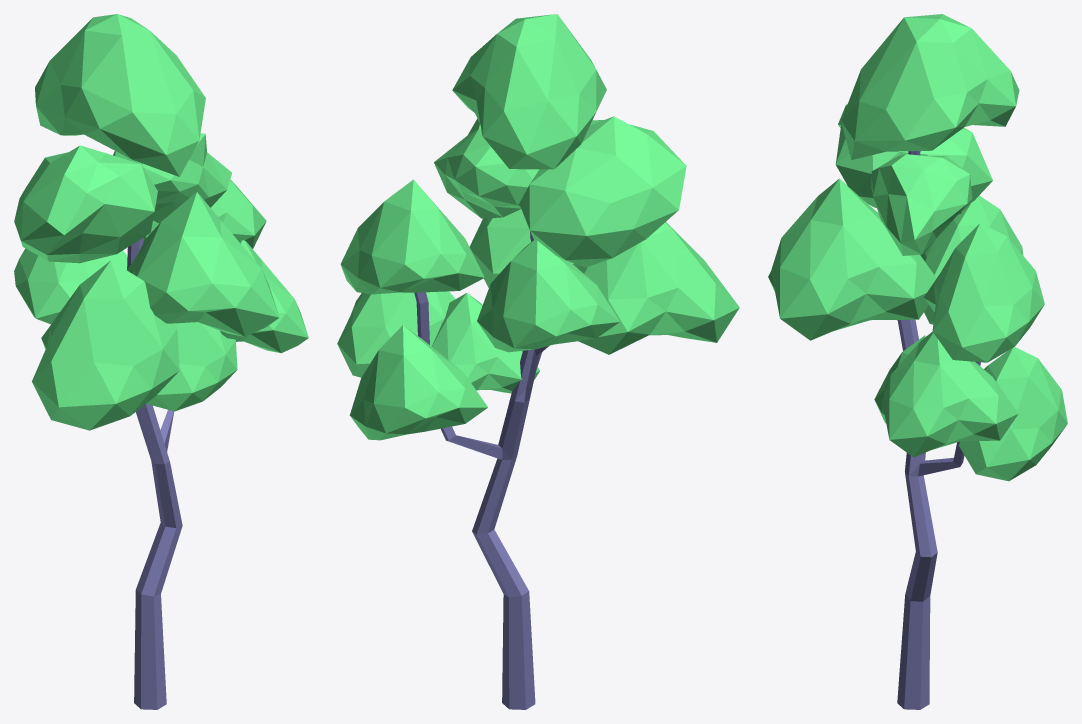
File: SM_Tree_08.fbx
The picture shows the model from 3 angles, left to right: view 1: azimuth 30°, elevation 25°; view 2: azimuth 150°, elevation 25°; view 3: azimuth 270°, elevation 25°; orthographic projection. The views are drawn at different scales.
Parts seen in each view (by area): view 1: Tree Type4 05 Model; view 2: Tree Type4 05 Model; view 3: Tree Type4 05 Model.
Boxes of the visible parts, left/top/right/bottom form: Tree Type4 05 Model: left=14, top=14, right=308, bottom=709; Tree Type4 05 Model: left=337, top=14, right=739, bottom=709; Tree Type4 05 Model: left=768, top=14, right=1067, bottom=709.
Size of the model in its own units: 303 by 635 by 256.
